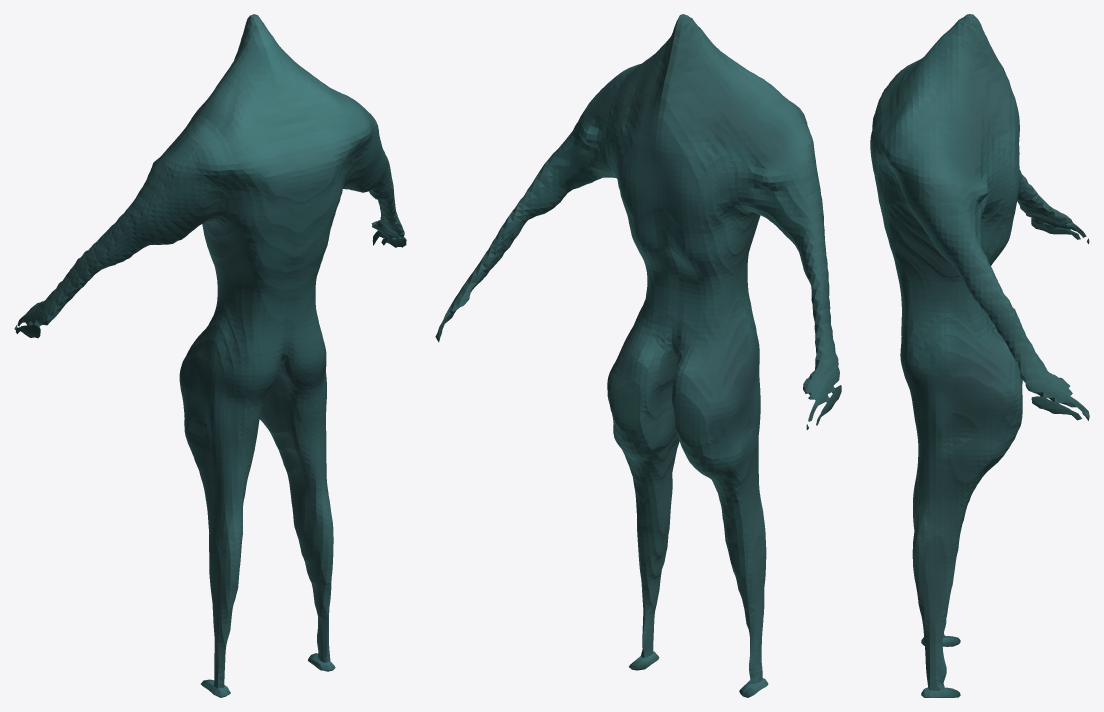
3 views of the same model, side by side, from view 1: azimuth 30°, elevation 25°; view 2: azimuth 150°, elevation 25°; view 3: azimuth 270°, elevation 25° (orthographic). The views are drawn at different scales.
Parts seen in each view (by area): view 1: tmpnhq9bam8.ply; view 2: tmpnhq9bam8.ply; view 3: tmpnhq9bam8.ply.
Boxes of the visible parts, <box> form: tmpnhq9bam8.ply: <box>14,14,406,697</box>; tmpnhq9bam8.ply: <box>435,14,841,697</box>; tmpnhq9bam8.ply: <box>870,14,1089,697</box>.
Bounding box in the file's own units: 1.17 × 1.98 × 0.6.
